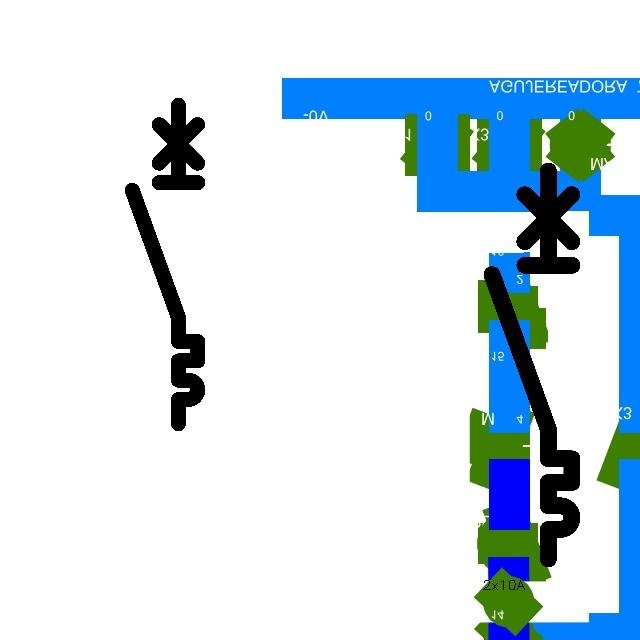interruptor_termomagnetico: (482, 161, 582, 569), (124, 97, 206, 432)
